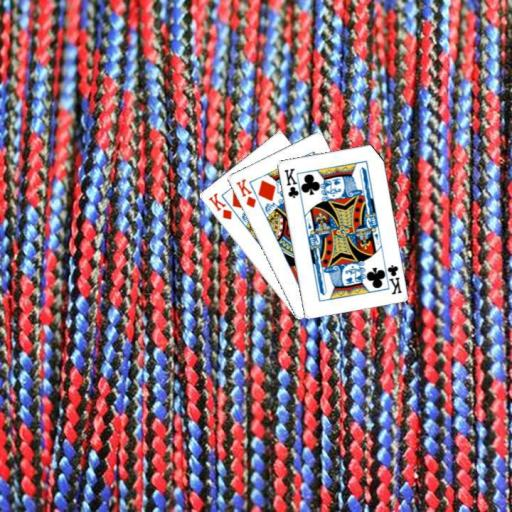KC: (381, 259, 404, 296), (281, 165, 304, 201)
KD: (205, 190, 233, 221), (233, 176, 258, 209)
